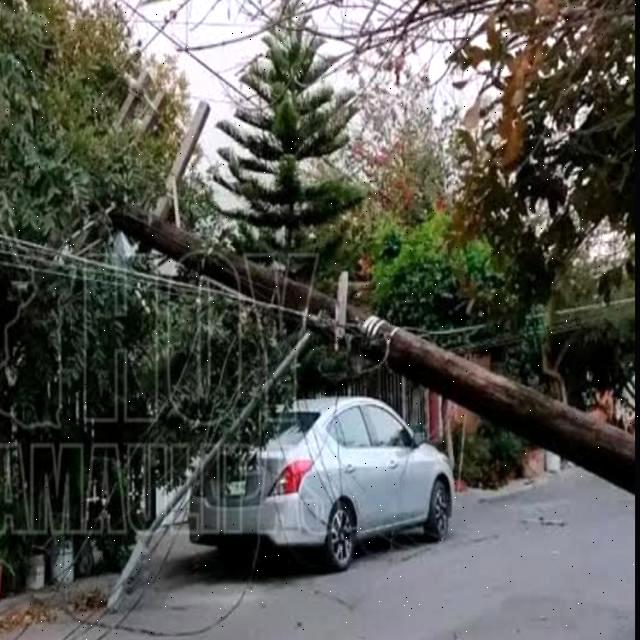Broken Pole: (57, 59, 632, 613)
